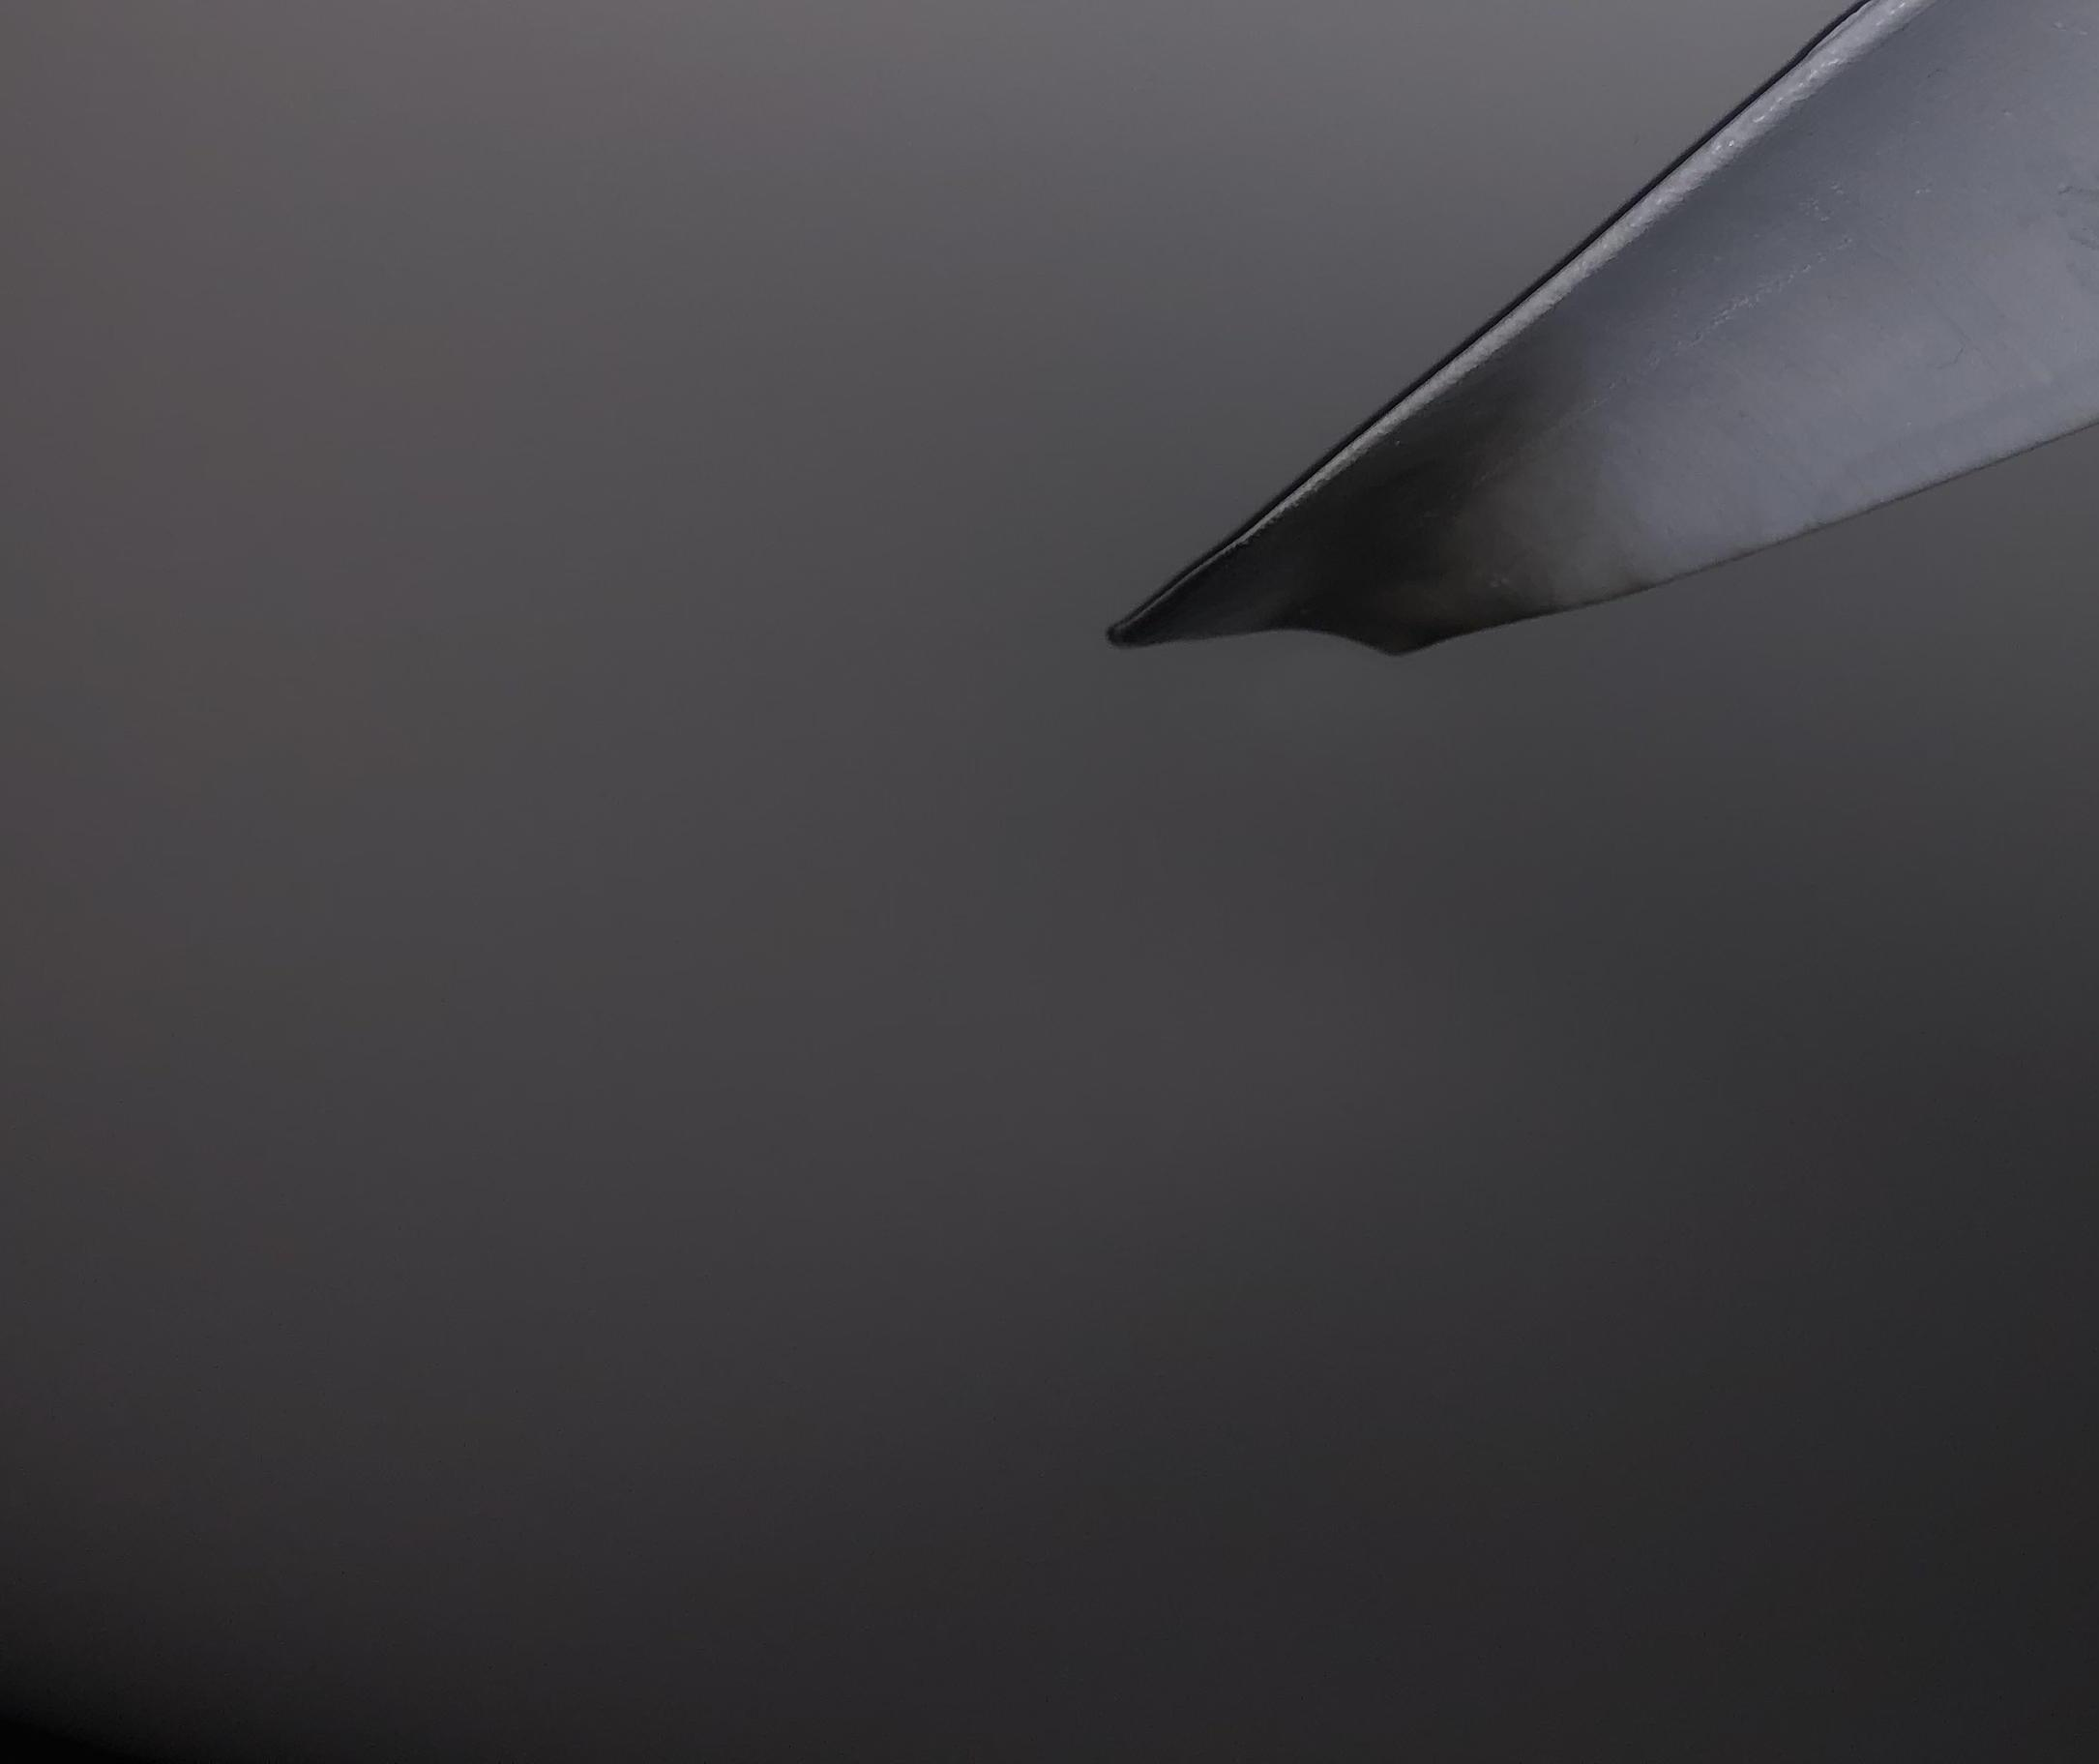ablation: (1218, 458, 1539, 646)
